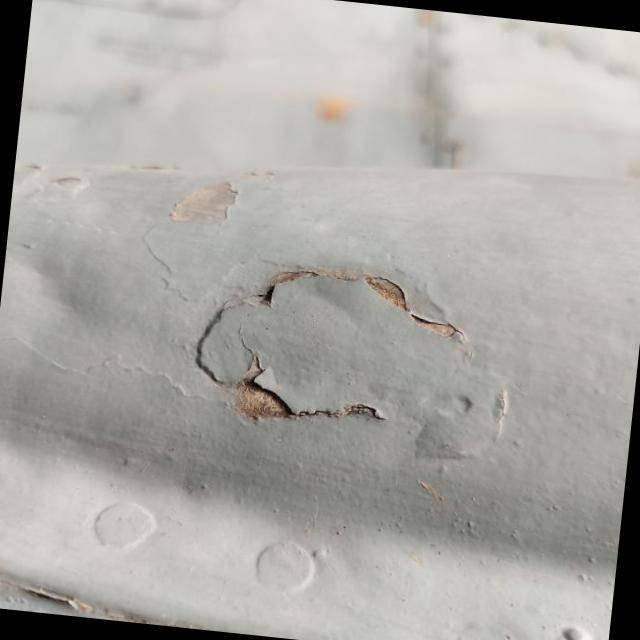Paint-off: (191, 267, 459, 435)
